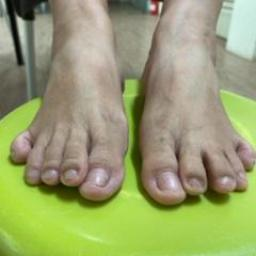Front View -Both Feet-: (4, 15, 255, 214)
